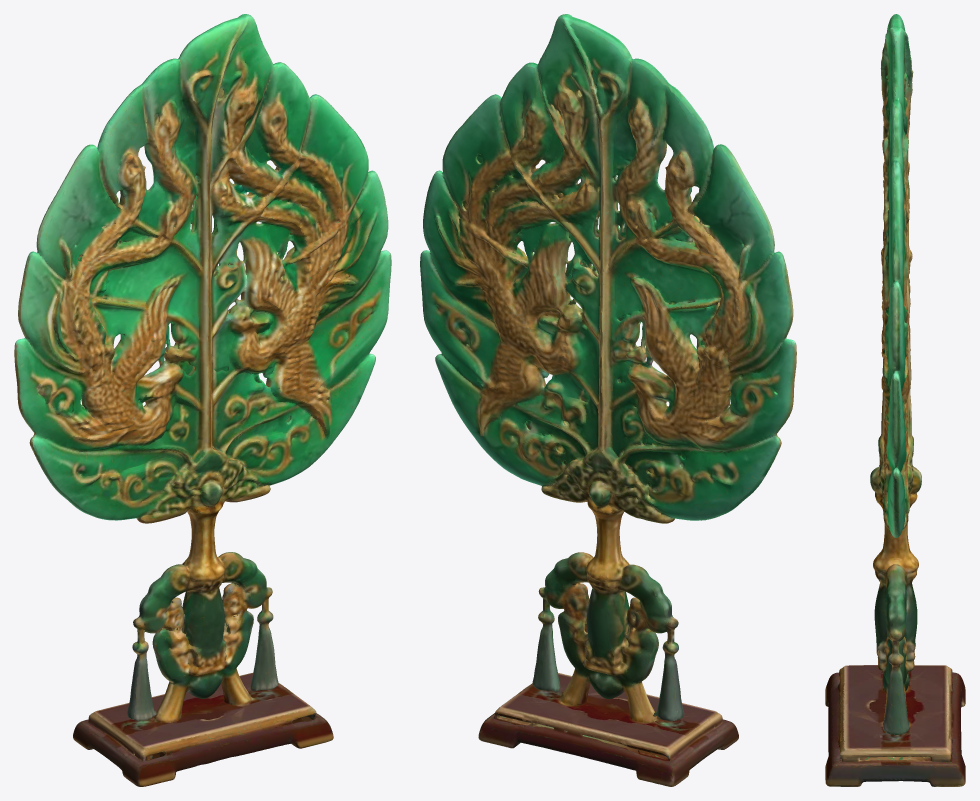
File: plantain-fan.glb
3 renders of one model, left to right at view 1: azimuth 30°, elevation 25°; view 2: azimuth 150°, elevation 25°; view 3: azimuth 270°, elevation 25°, orthographic. The views are drawn at different scales.
Visible parts, largest first — view 1: geometry_0; view 2: geometry_0; view 3: geometry_0.
Part boxes in pixels (x1,y1,x2,y2): geometry_0: (14, 14, 391, 786); geometry_0: (420, 14, 796, 786); geometry_0: (825, 14, 965, 786).
Size of the model in its own units: 0.3308 by 0.6 by 0.1043.
1 material, 1 textured.
